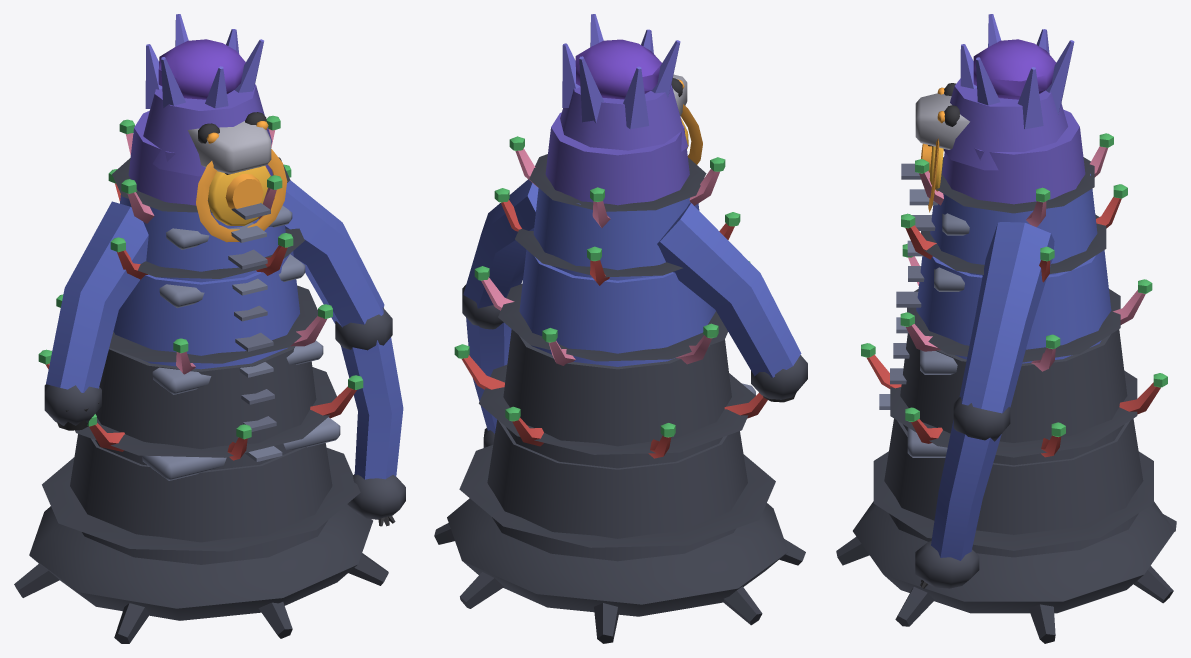
File: sunken_warden.glb
3 views of the same model, side by side, from view 1: azimuth 30°, elevation 25°; view 2: azimuth 150°, elevation 25°; view 3: azimuth 270°, elevation 25° (orthographic).
Parts seen in each view (by area): view 1: SunkenWarden; view 2: SunkenWarden; view 3: SunkenWarden.
Boxes of the visible parts, x1=… form: SunkenWarden: x1=14, y1=14, x2=405, y2=643; SunkenWarden: x1=434, y1=14, x2=807, y2=643; SunkenWarden: x1=836, y1=14, x2=1176, y2=643.
Bounding box in the file's own units: 3.94 × 6 × 3.46.
1 material, 1 textured.
